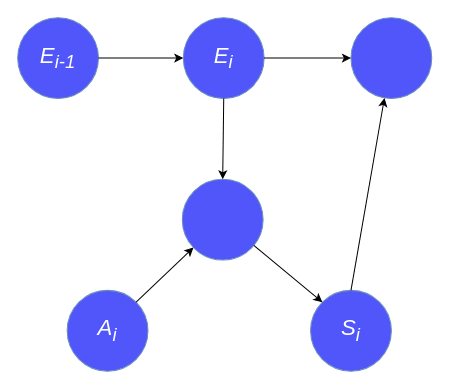
Some shapes in this 449 by 389 pixel diagram are drawn without their labels. Each missing label, with the centre of its shape:
"C i" goes at point (222, 219).
"E i+1" goes at point (391, 57).
